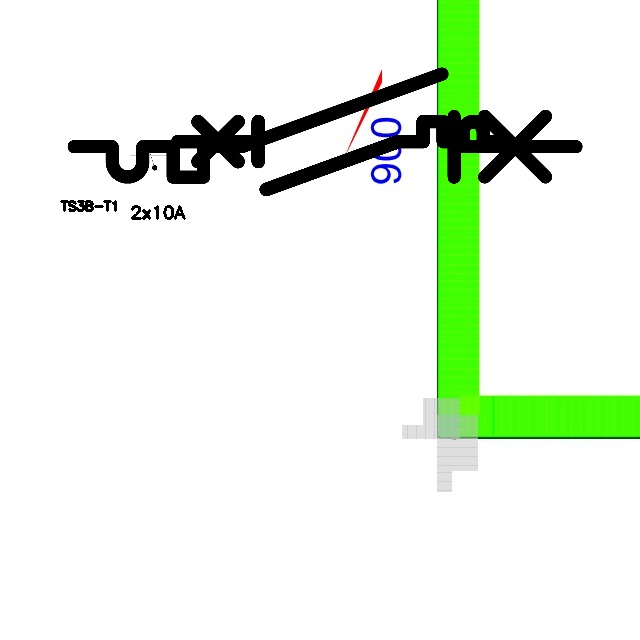interruptor_termomagnetico: (61, 61, 589, 190), (169, 113, 517, 198)
